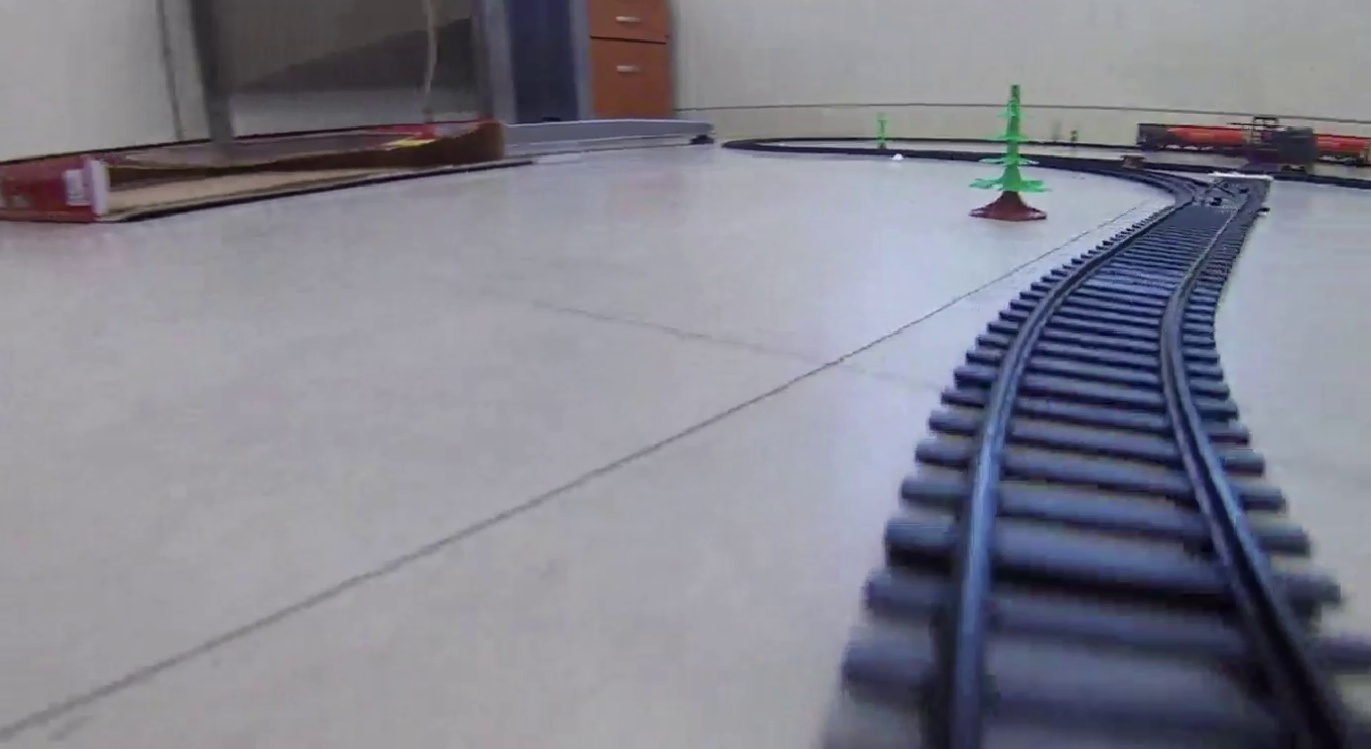tree: (964, 83, 1048, 220)
